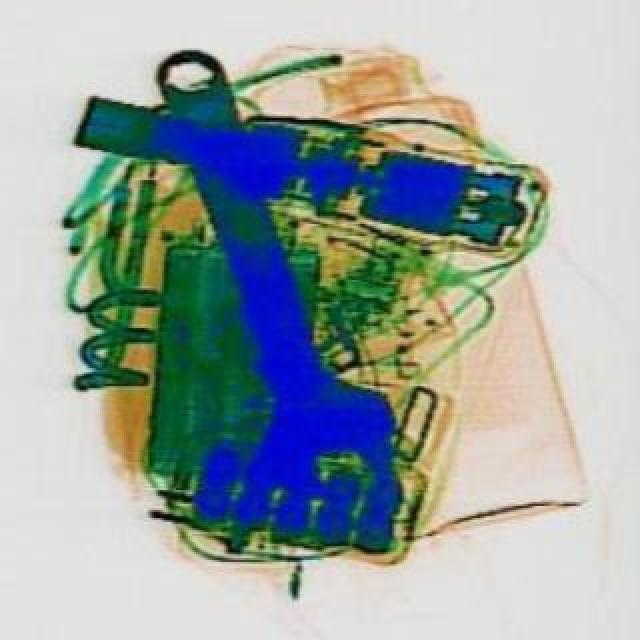scissors: (124, 34, 424, 528)
